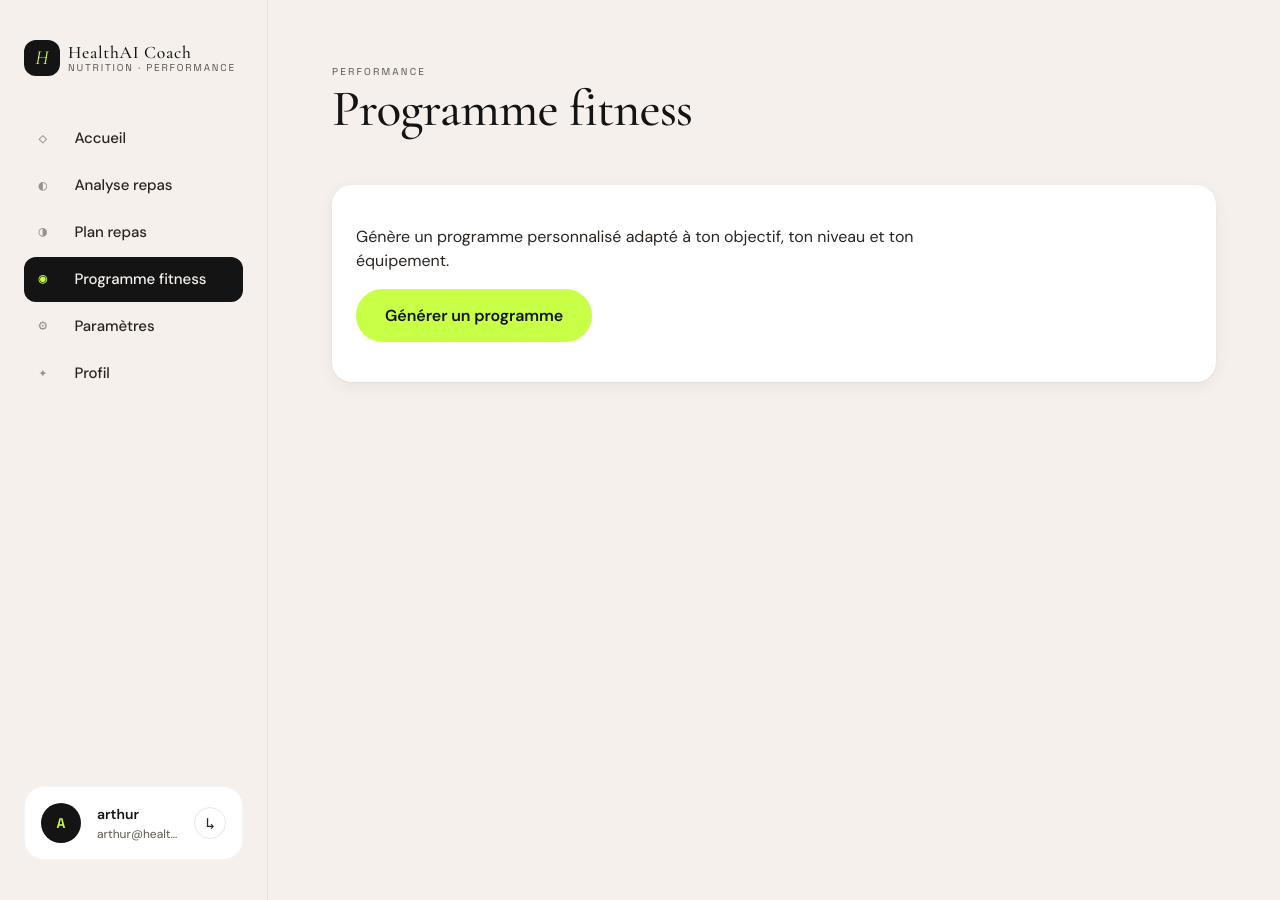
it: FitnessProgramView › shows an error banner when generate returns 5xx
This screenshot has width=1280, height=900.
Step 1. Click the button with test id "generate-program-cta" → [474, 316], box [356,289,592,342]
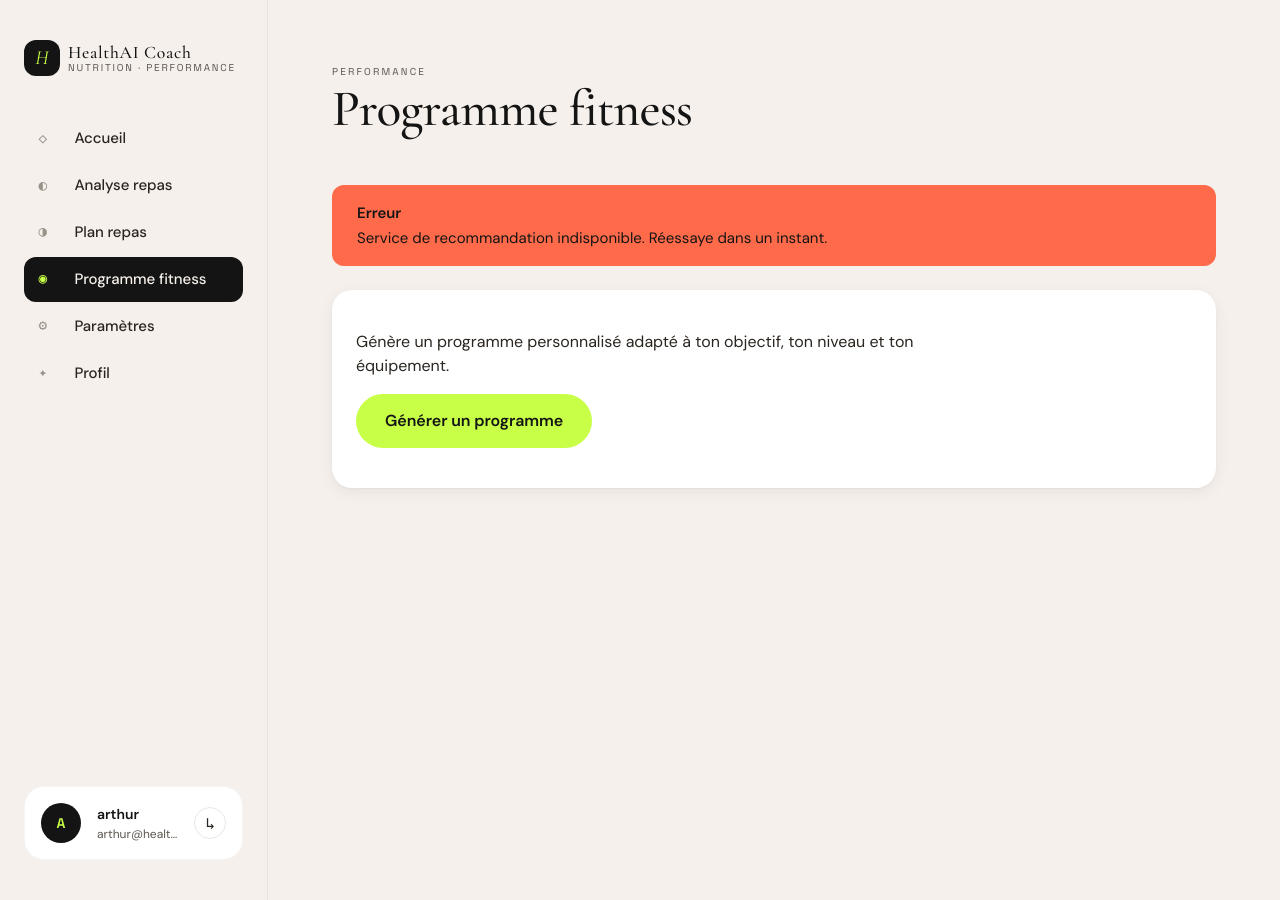
Expected: the message "Erreur Service de recommandation indisponible. Réessaye dans un instant." is shown, [332,185,1216,266]
Expected: the message with test id "program-error" reads "Erreur Service de recommandation indisponible. Réessaye dans un instant.", [357,203,401,223]
